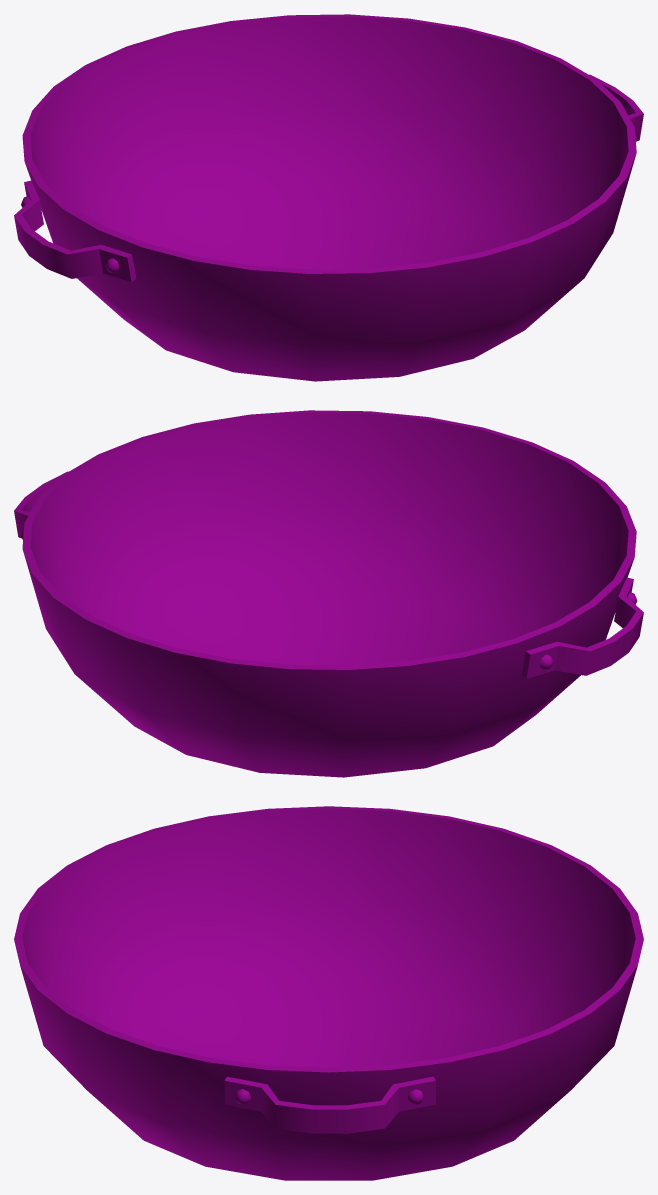
The model's file is Kadhai.FBX.
3 views of the same model, one above another, from view 1: azimuth 30°, elevation 25°; view 2: azimuth 150°, elevation 25°; view 3: azimuth 270°, elevation 25° (orthographic). The views are drawn at different scales.
Parts seen in each view (by area): view 1: PRP_Kadhai_1; view 2: PRP_Kadhai_1; view 3: PRP_Kadhai_1.
Boxes of the visible parts, x1,y1,x2,y2 form: PRP_Kadhai_1: [14, 14, 643, 381]; PRP_Kadhai_1: [14, 410, 643, 777]; PRP_Kadhai_1: [14, 806, 643, 1180].
Bounding box in the file's own units: 63.9 × 19.84 × 57.69.
